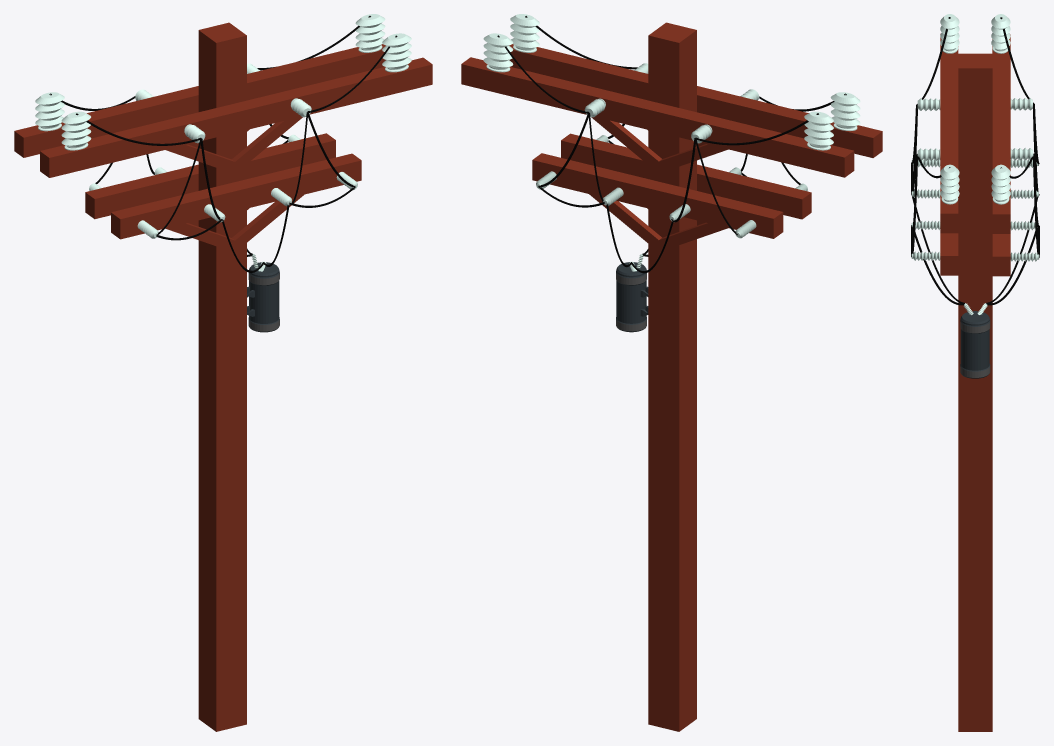
File: telephonepole2.fbx
3 renders of one model, left to right at view 1: azimuth 30°, elevation 25°; view 2: azimuth 150°, elevation 25°; view 3: azimuth 270°, elevation 25°, orthographic. The views are drawn at different scales.
Visible parts, largest first — view 1: Cube, Catenary.018; view 2: Cube, Catenary.018; view 3: Cube, Catenary.018.
Boxes of the visible parts, box(x1,y1,x2,y2) form: Cube: box(14, 14, 432, 731); Catenary.018: box(49, 16, 397, 272); Cube: box(461, 14, 882, 731); Catenary.018: box(497, 16, 846, 273); Cube: box(911, 14, 1039, 731); Catenary.018: box(911, 17, 1039, 305).
Bounding box in the file's own units: 2321 × 3971 × 699.
